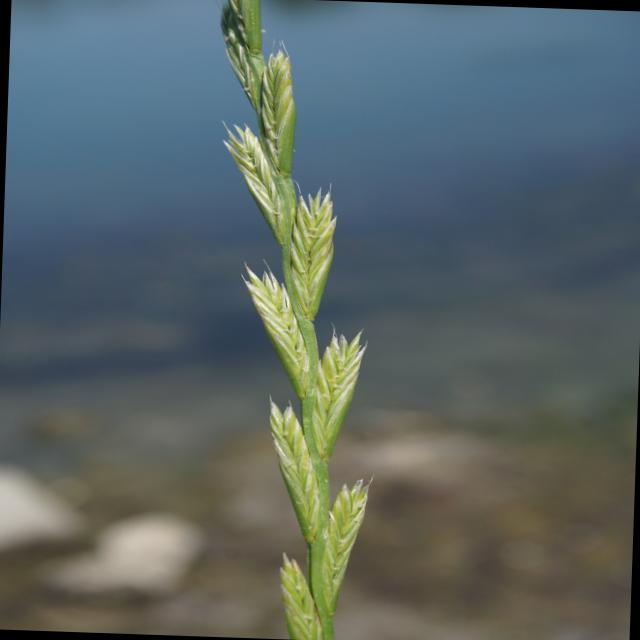Lolium: (194, 0, 393, 640)
